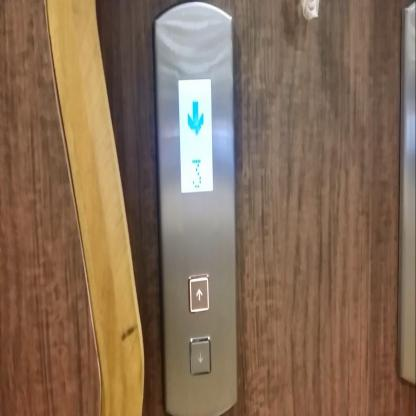down: (189, 334, 211, 376)
led: (178, 78, 213, 194)
up: (188, 273, 209, 313)
